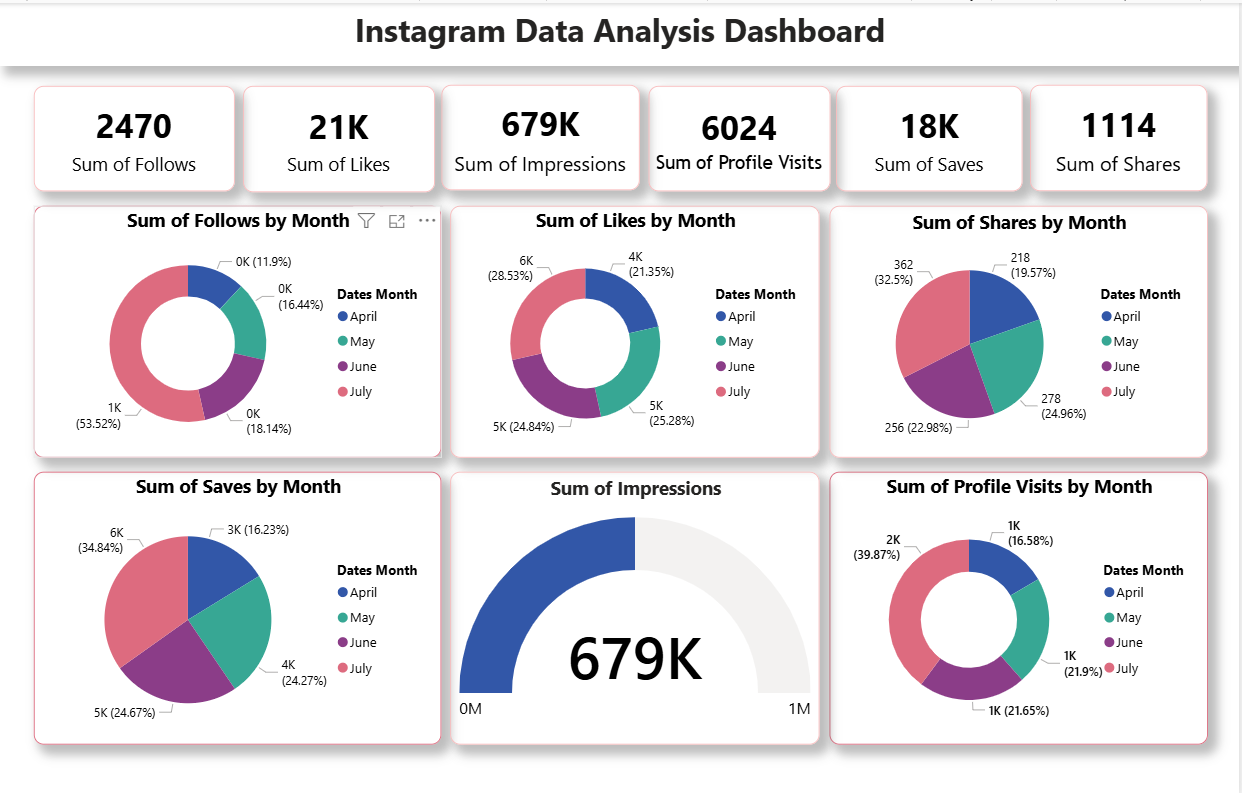

The page's visual inventory and layout, read from the dashboard file:
{"tool":"powerbi","page":{"name":"Instagram reach Analysis","canvas":[1250,800],"ordinal":0},"visuals":[{"type":"textbox","box":[0,0,1250.2,63.1],"z":0},{"type":"donutChart","fields":{"Category":["Instagram_data.Dates.Variation.Date Hierarchy.Month"],"Y":["Sum(Instagram_data.Follows)"]},"box":[34.5,204,410.8,254.2],"z":1000},{"type":"donutChart","fields":{"Category":["Instagram_data.Dates.Variation.Date Hierarchy.Month"],"Y":["Sum(Instagram_data.Likes)"]},"box":[454.2,204,372.4,254.2],"z":2000},{"type":"pieChart","fields":{"Category":["Instagram_data.Dates.Variation.Date Hierarchy.Month"],"Y":["Sum(Instagram_data.Saves)"]},"box":[34.5,472.9,410.8,274.9],"z":3000},{"type":"donutChart","fields":{"Category":["Instagram_data.Dates.Variation.Date Hierarchy.Month"],"Y":["Sum(Instagram_data.Profile Visits)"]},"box":[836.5,472.9,381.3,274.9],"z":4000},{"type":"pieChart","fields":{"Category":["Instagram_data.Dates.Variation.Date Hierarchy.Month"],"Y":["Sum(Instagram_data.Shares)"]},"box":[836.5,203.9,381.3,254.2],"z":5000},{"type":"card","fields":{"Values":["Sum(Instagram_data.Follows)"]},"box":[34.5,84,202.6,106.2],"z":6000},{"type":"card","fields":{"Values":["Sum(Instagram_data.Likes)"]},"box":[245.3,84,193.4,107.2],"z":7000},{"type":"card","fields":{"Values":["Sum(Instagram_data.Impressions)"]},"box":[445.3,82.8,200,106.4],"z":8000},{"type":"card","fields":{"Values":["Sum(Instagram_data.Profile Visits)"]},"box":[653.7,84,183.2,106.2],"z":9000},{"type":"card","fields":{"Values":["Sum(Instagram_data.Saves)"]},"box":[843,84,188.3,106.2],"z":10000},{"type":"card","fields":{"Values":["Sum(Instagram_data.Shares)"]},"box":[1038.9,82.8,178.8,107.2],"z":11000},{"type":"gauge","fields":{"Y":["Sum(Instagram_data.Impressions)"]},"box":[454.2,472.9,372.4,274.9],"z":12000}]}

Visuals, with their boxes in screenshot pixels (x1, y1, x2, y2), scaled from the page's 1250x800 canvas onto the 1242x793 screenshot:
textbox: [0, 0, 1241, 63]
donutChart - Instagram_data.Dates.Variation.Date Hierarchy.Month x Sum(Instagram_data.Follows): [34, 202, 442, 454]
donutChart - Instagram_data.Dates.Variation.Date Hierarchy.Month x Sum(Instagram_data.Likes): [451, 202, 821, 454]
pieChart - Instagram_data.Dates.Variation.Date Hierarchy.Month x Sum(Instagram_data.Saves): [34, 469, 442, 741]
donutChart - Instagram_data.Dates.Variation.Date Hierarchy.Month x Sum(Instagram_data.Profile Visits): [831, 469, 1210, 741]
pieChart - Instagram_data.Dates.Variation.Date Hierarchy.Month x Sum(Instagram_data.Shares): [831, 202, 1210, 454]
card - Sum(Instagram_data.Follows): [34, 83, 236, 189]
card - Sum(Instagram_data.Likes): [244, 83, 436, 190]
card - Sum(Instagram_data.Impressions): [442, 82, 641, 188]
card - Sum(Instagram_data.Profile Visits): [650, 83, 832, 189]
card - Sum(Instagram_data.Saves): [838, 83, 1025, 189]
card - Sum(Instagram_data.Shares): [1032, 82, 1210, 188]
gauge - Sum(Instagram_data.Impressions): [451, 469, 821, 741]
